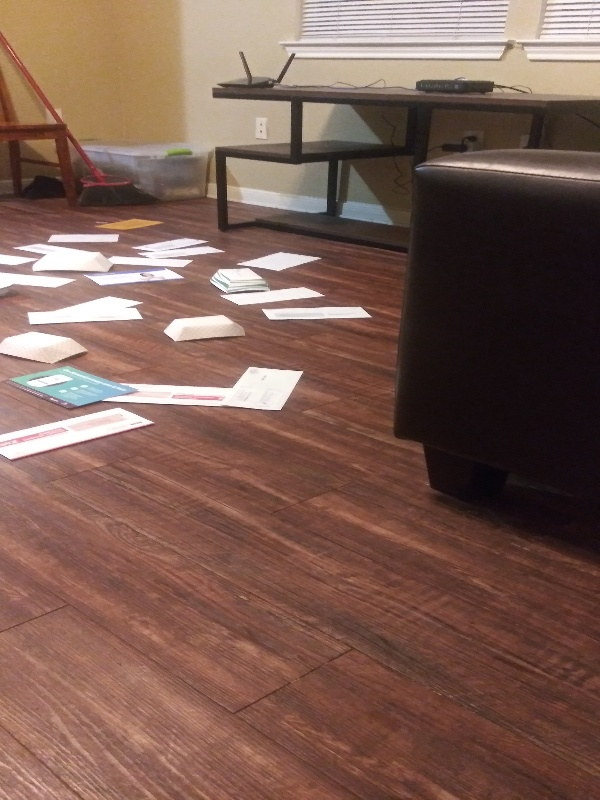plate: (1, 328, 91, 371), (157, 310, 246, 348), (30, 249, 116, 278), (207, 265, 274, 295)
